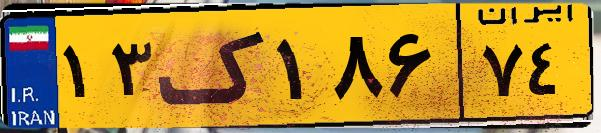1: (270, 28, 330, 110), (57, 26, 110, 100)
3: (110, 28, 158, 98)
4: (525, 38, 570, 115)
6: (385, 28, 445, 110)
7: (475, 38, 525, 113)
8: (330, 28, 385, 110)
ک: (158, 12, 270, 120)
